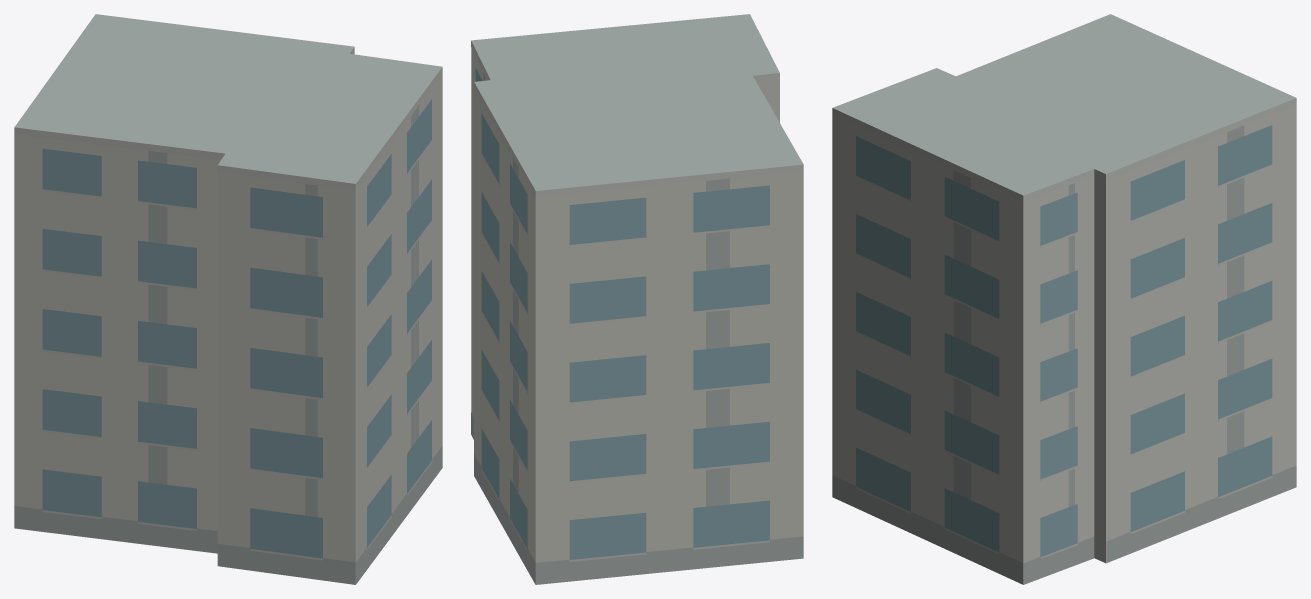
The model's file is survey-upis-32563200.glb.
3 views of the same model, side by side, from view 1: azimuth 30°, elevation 25°; view 2: azimuth 150°, elevation 25°; view 3: azimuth 270°, elevation 25° (orthographic). The views are drawn at different scales.
Parts seen in each view (by area): view 1: survey-upis-32563200.tmp; view 2: survey-upis-32563200.tmp; view 3: survey-upis-32563200.tmp.
Part boxes in pixels (bbox=[...]): survey-upis-32563200.tmp: bbox=[14, 14, 442, 584]; survey-upis-32563200.tmp: bbox=[471, 14, 803, 584]; survey-upis-32563200.tmp: bbox=[832, 14, 1296, 584].
Size of the model in its own units: 14.32 by 14.3 by 15.47.
